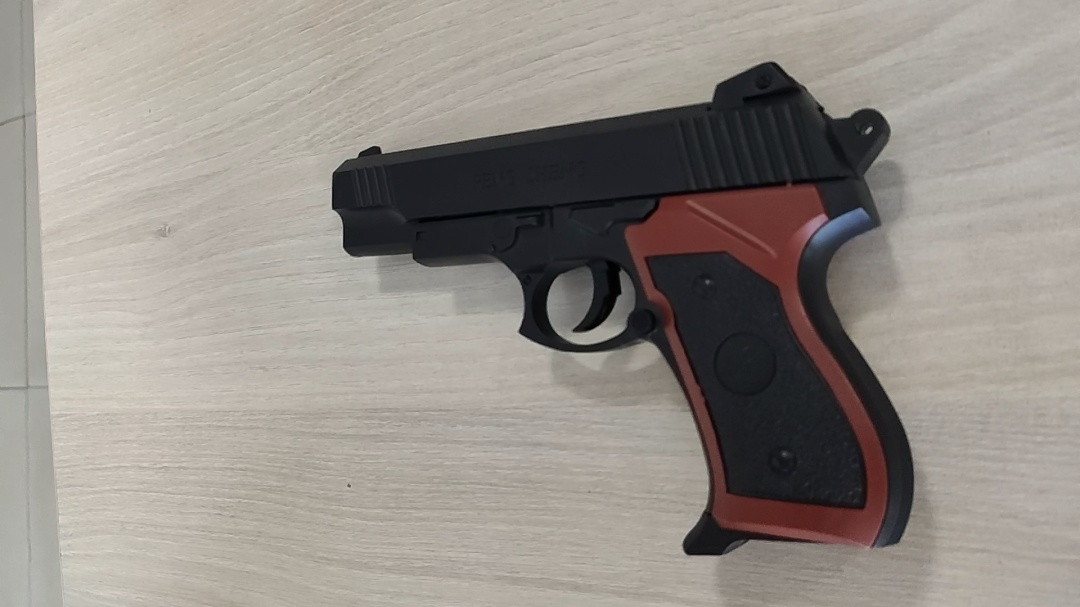gunw: (329, 57, 920, 564)
